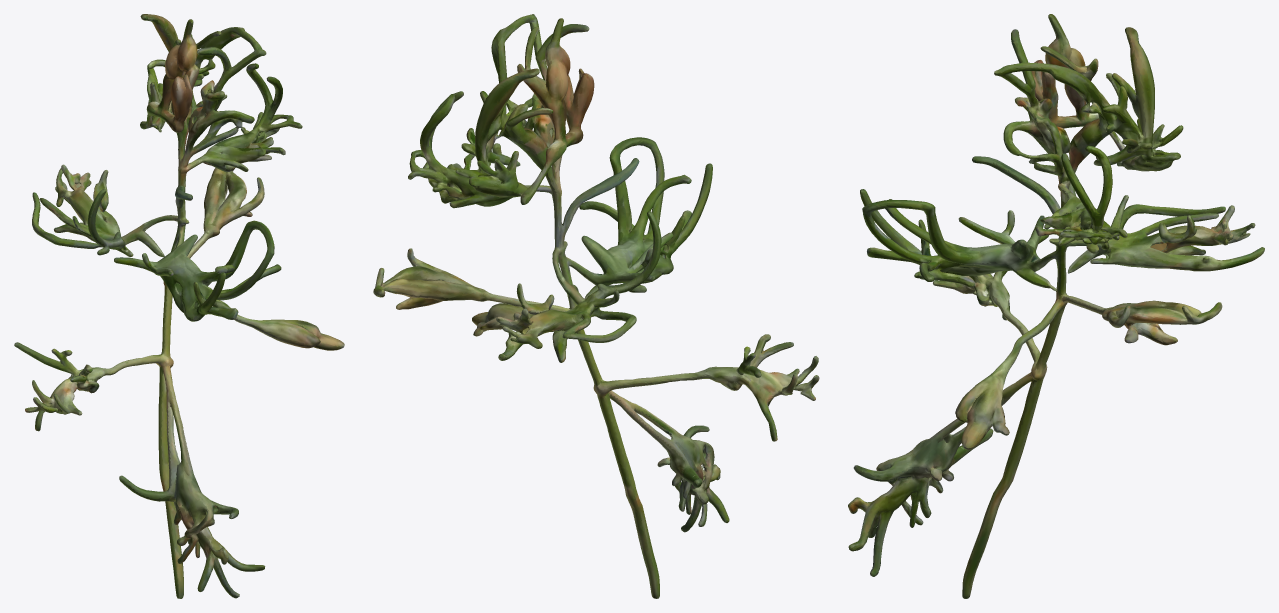
File: ribbon-grass-v10.glb
3 renders of one model, left to right at view 1: azimuth 30°, elevation 25°; view 2: azimuth 150°, elevation 25°; view 3: azimuth 270°, elevation 25°, orthographic. The views are drawn at different scales.
Visible parts, largest first — view 1: geometry_0; view 2: geometry_0; view 3: geometry_0.
Part boxes in pixels (bbox=[...]): geometry_0: bbox=[14, 14, 344, 598]; geometry_0: bbox=[373, 14, 819, 598]; geometry_0: bbox=[848, 14, 1264, 598].
Bounding box in the file's own units: 0.2153 × 0.35 × 0.2166.
1 material, 1 textured.
